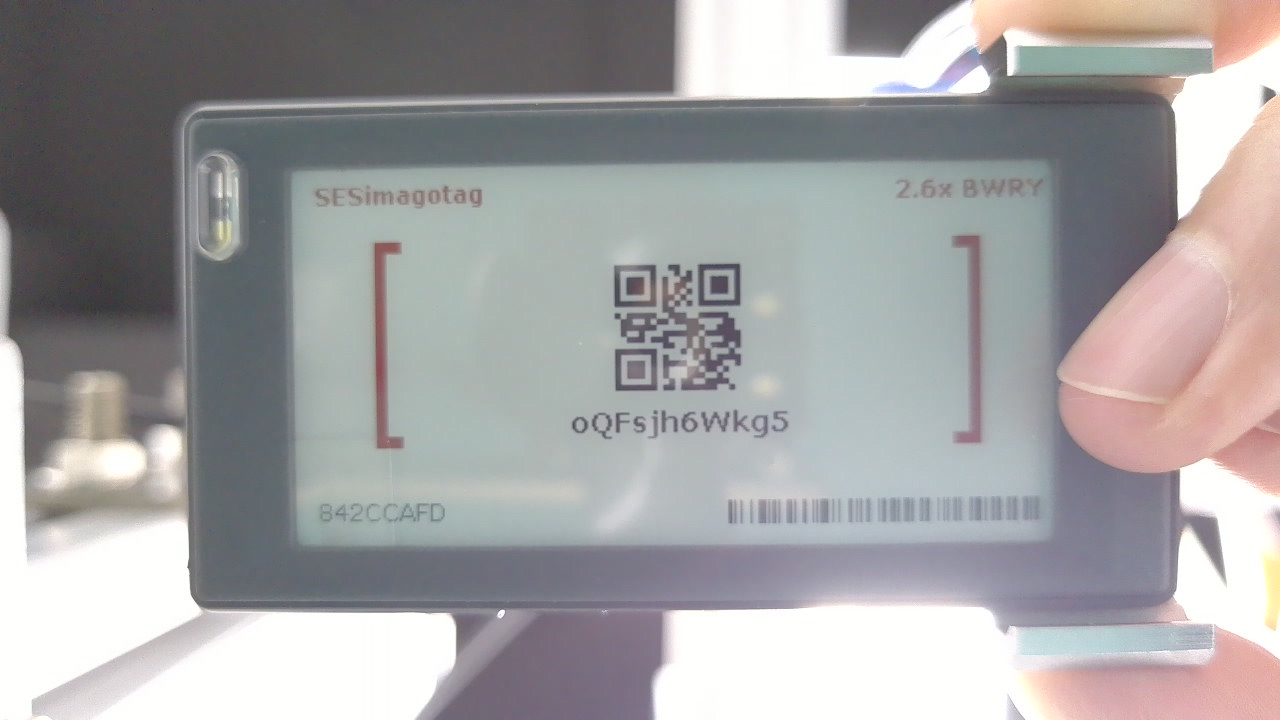flaw: (385, 438, 399, 547)
